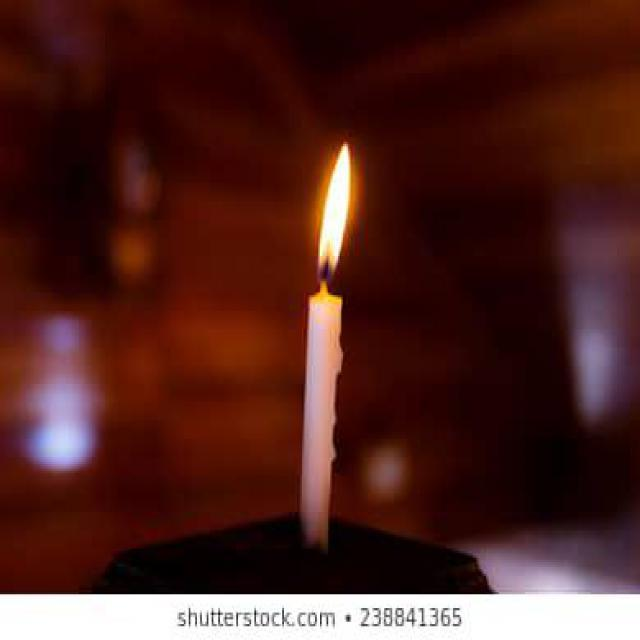Fire: (318, 142, 352, 276)
